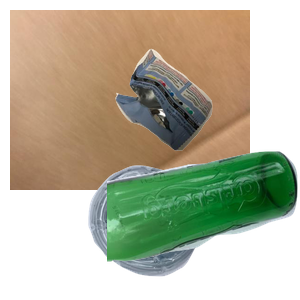cardboard: (10, 10, 250, 190)
glass: (107, 149, 300, 300)
plastic: (86, 163, 282, 300)
trash: (113, 46, 300, 189)
